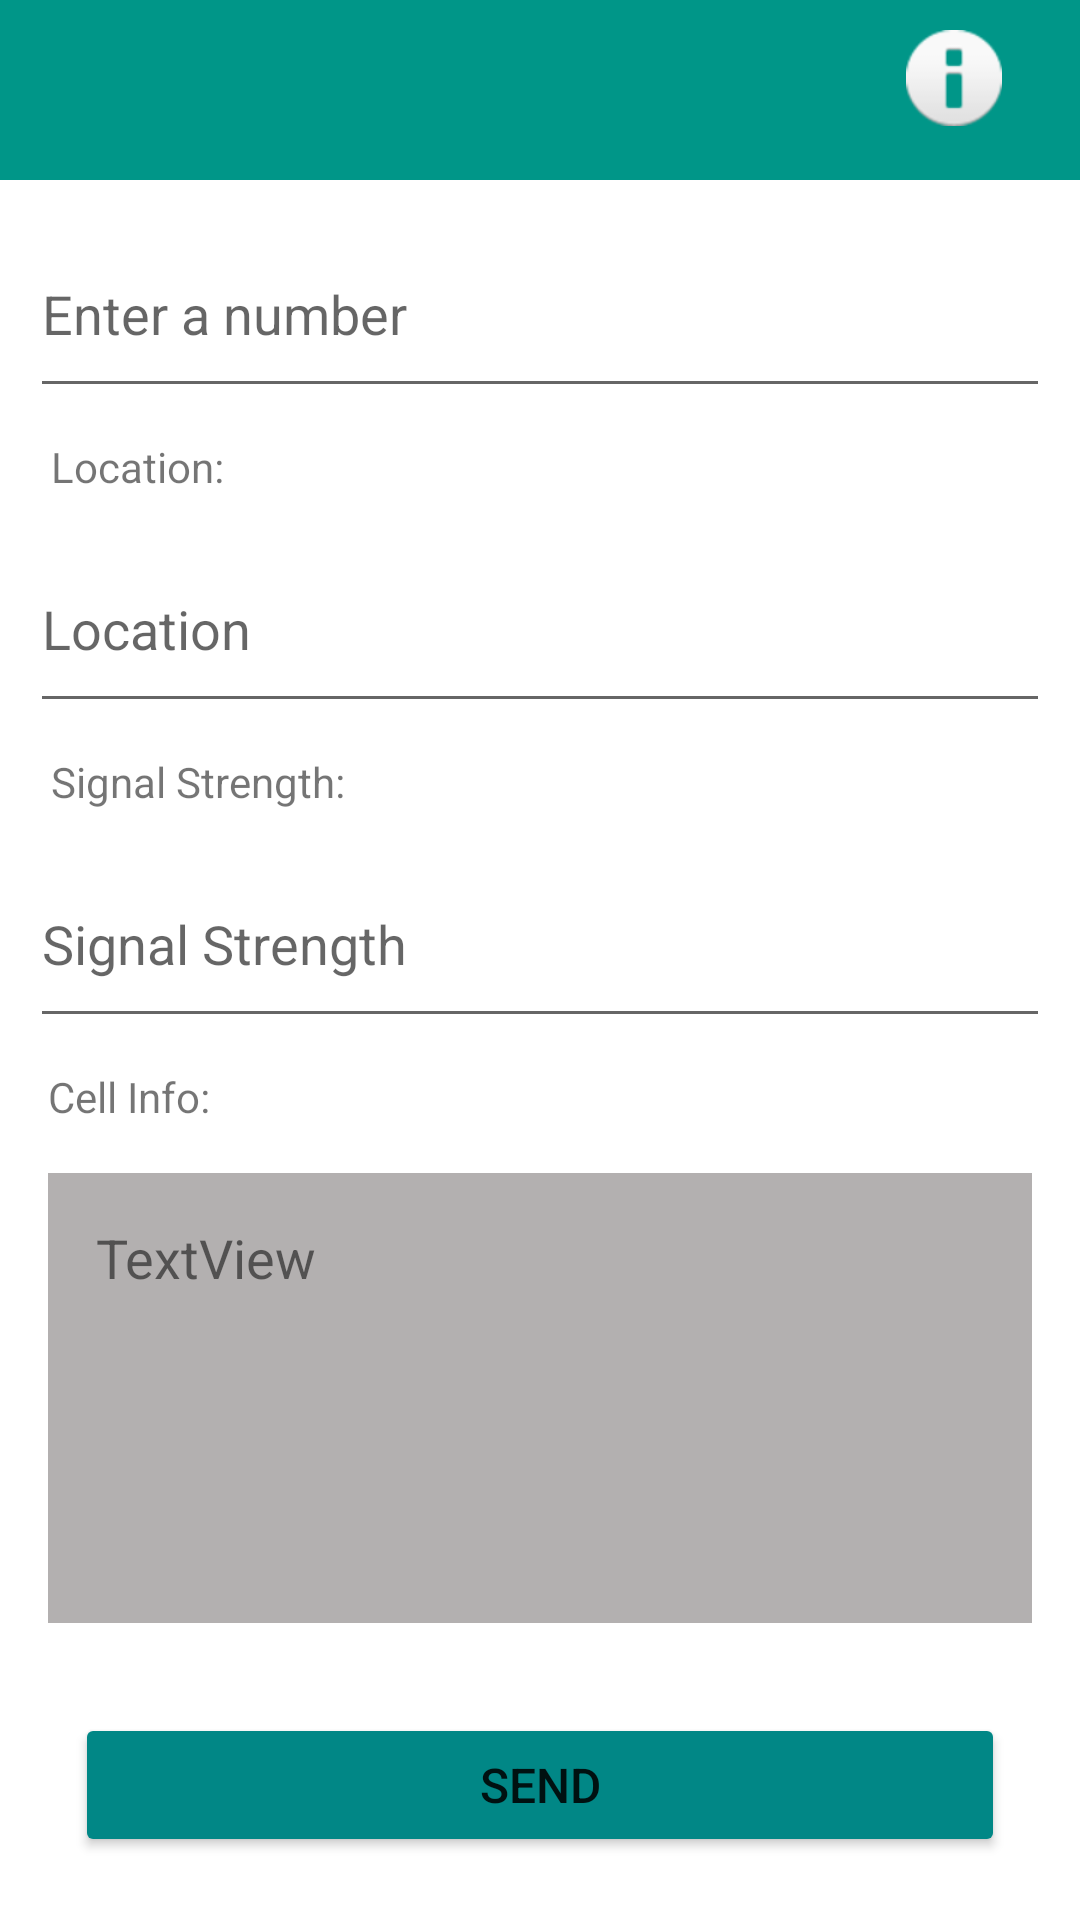

Named icons in this screenshot (1080w x 1920h) and their centers, point (x, y):
info: point (954, 78)
